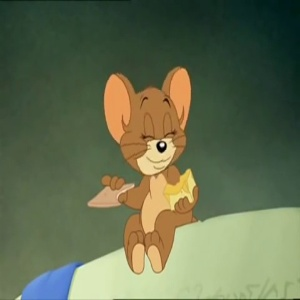Jerry: (93, 60, 201, 177)
